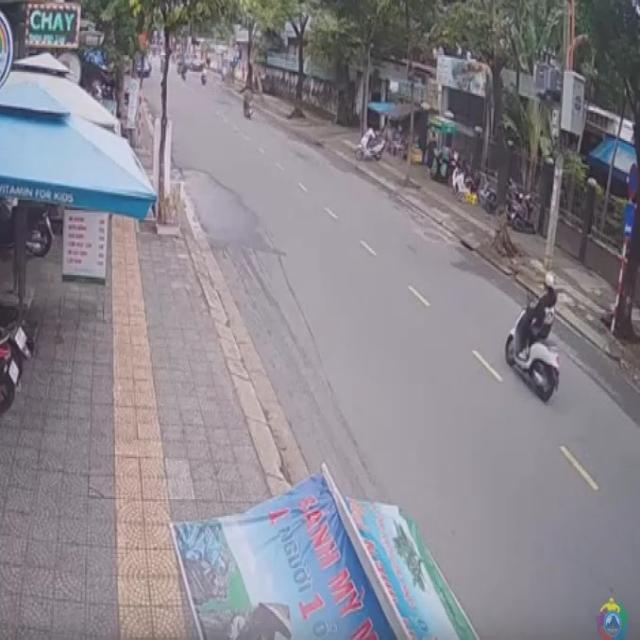motorbike: (505, 282, 561, 407)
